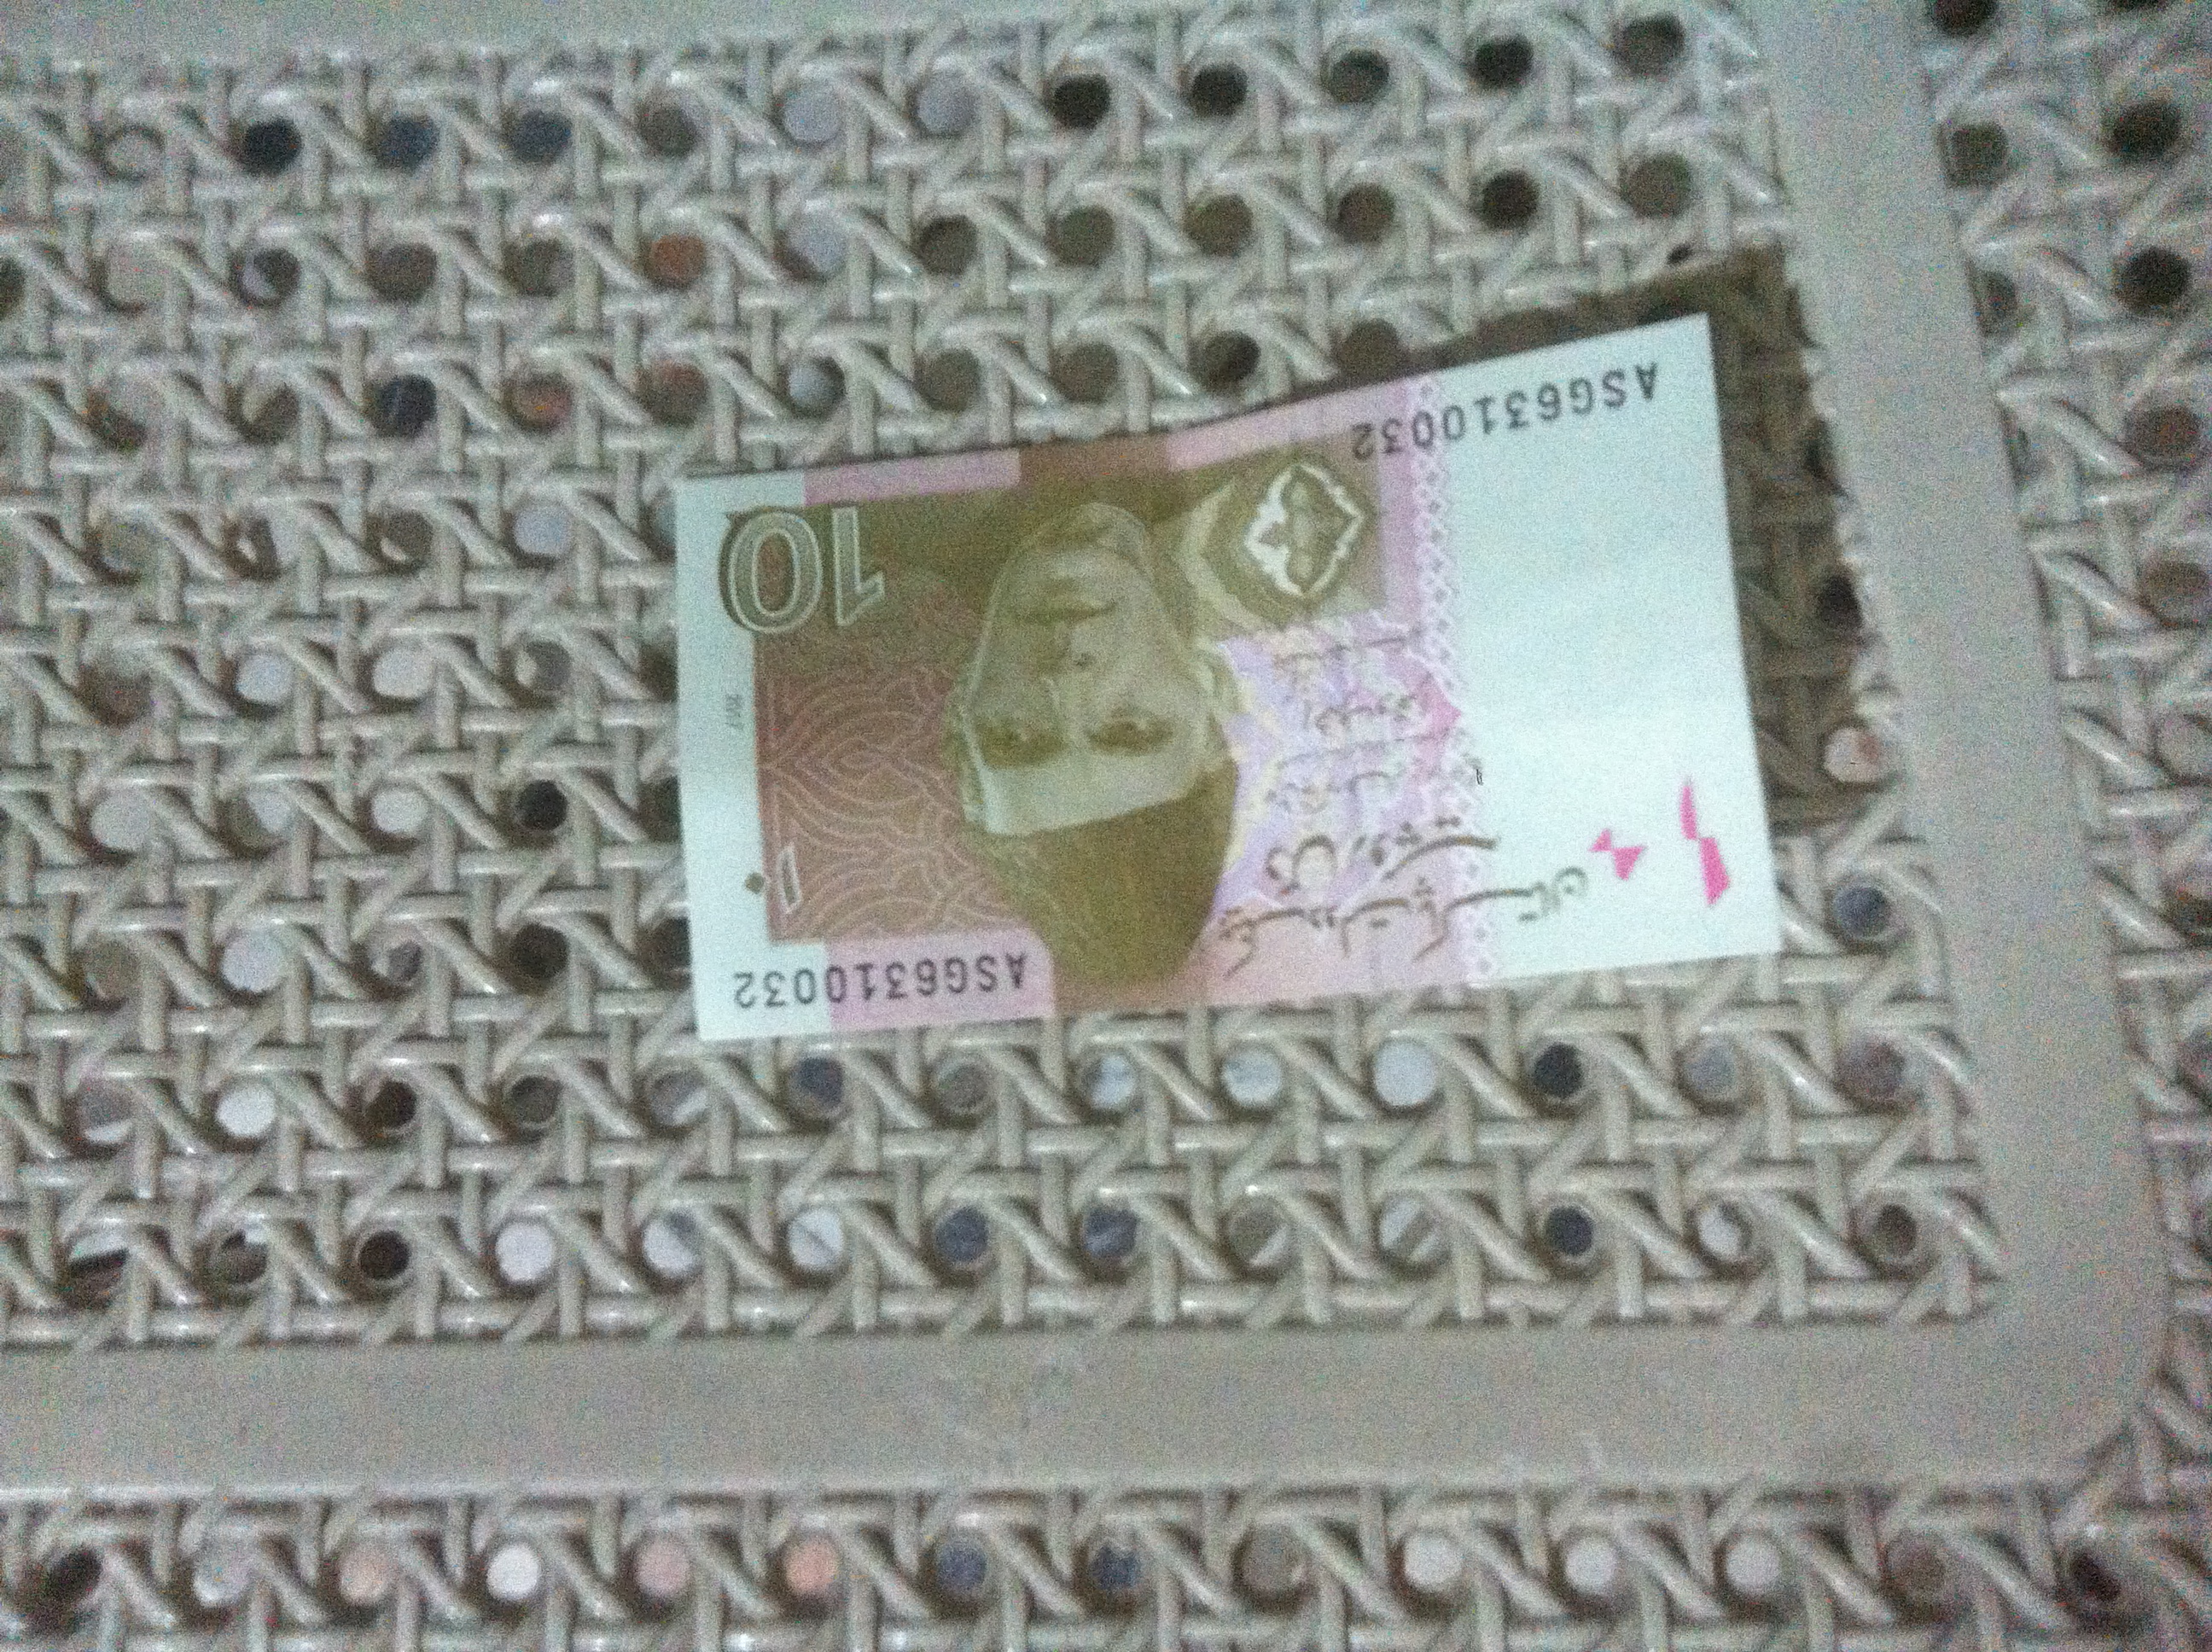10 rupee: (673, 274, 1778, 1069)
